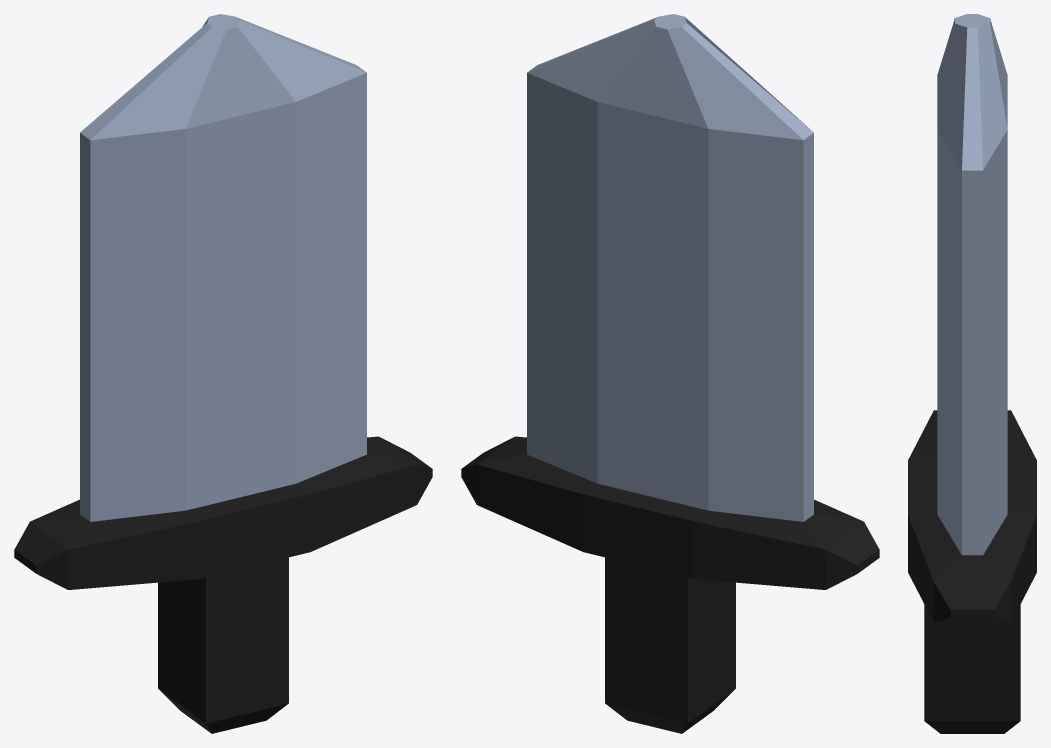
Rendered from Sword.fbx.
The picture shows the model from 3 angles, left to right: view 1: azimuth 30°, elevation 25°; view 2: azimuth 150°, elevation 25°; view 3: azimuth 270°, elevation 25°; orthographic projection.
Parts seen in each view (by area): view 1: Cube.001; view 2: Cube.001; view 3: Cube.001.
Boxes of the visible parts, box(x1,y1,x2,y2) form: Cube.001: box(14, 14, 432, 733); Cube.001: box(461, 14, 879, 733); Cube.001: box(908, 14, 1036, 733).
Bounding box in the file's own units: 35.83 × 60 × 10.
